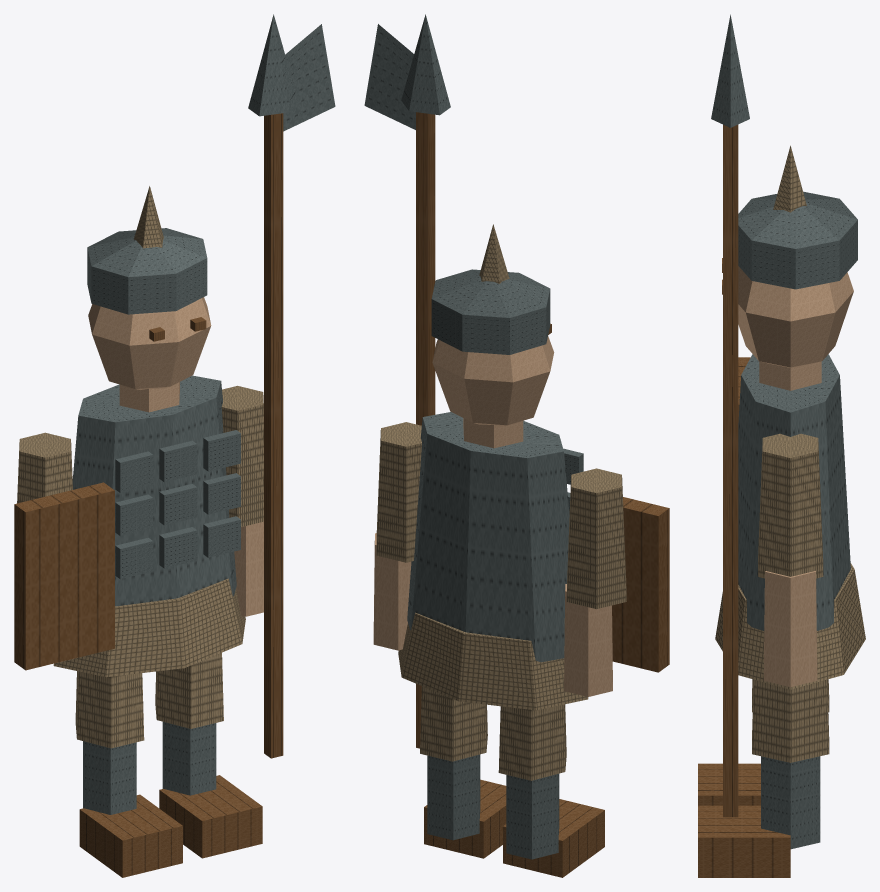
File: unit-HALBERD-lod0.glb
3 views of the same model, side by side, from view 1: azimuth 30°, elevation 25°; view 2: azimuth 150°, elevation 25°; view 3: azimuth 270°, elevation 25° (orthographic). The views are drawn at different scales.
Bounding box in the file's own units: 0.225 × 0.565 × 0.098.
Materials: 1 (1 with a texture image).
